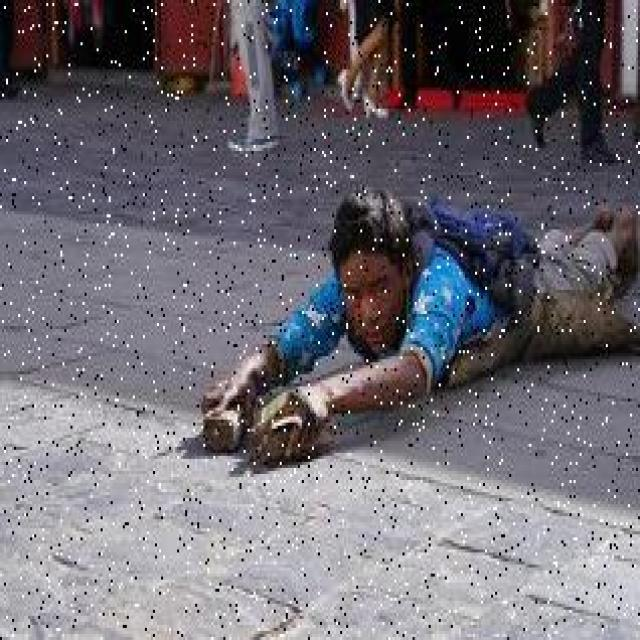fall: (218, 169, 626, 468)
